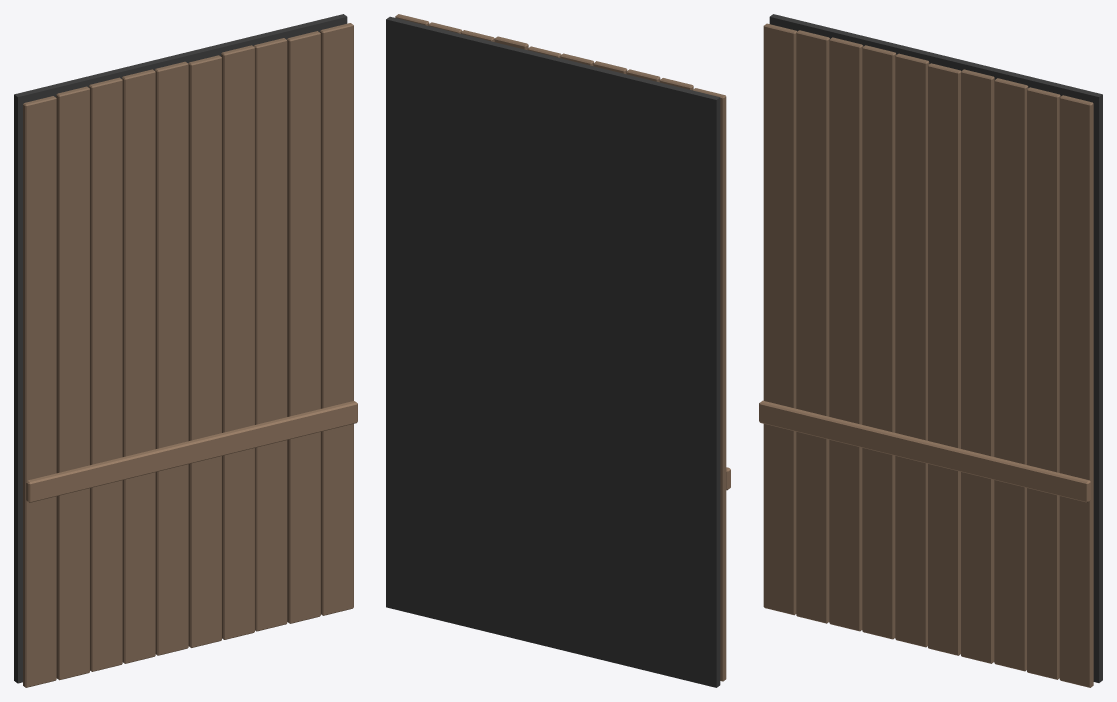
The model's file is Garage_Wall.glb.
The picture shows the model from 3 angles, left to right: view 1: azimuth 30°, elevation 25°; view 2: azimuth 150°, elevation 25°; view 3: azimuth 330°, elevation 25°; orthographic projection.
Visible parts, largest first — view 1: Garage_Wall; view 2: Garage_Wall; view 3: Garage_Wall.
Boxes of the visible parts, x1,y1,x2,y2 form: Garage_Wall: (14,14,357,687); Garage_Wall: (386,14,730,687); Garage_Wall: (759,14,1102,687).
Bounding box in the file's own units: 2 × 3.4 × 0.158.
